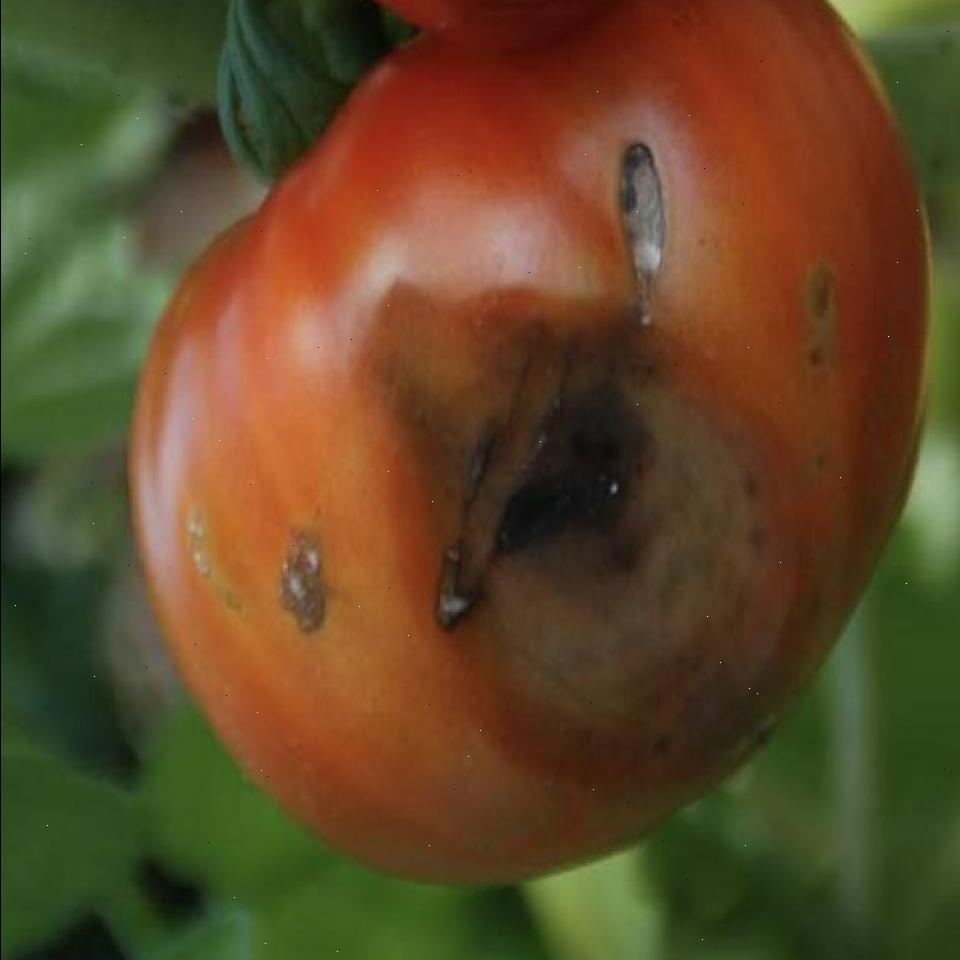Blossom_end_rot: (353, 306, 804, 778), (601, 112, 672, 344), (272, 476, 345, 690)
